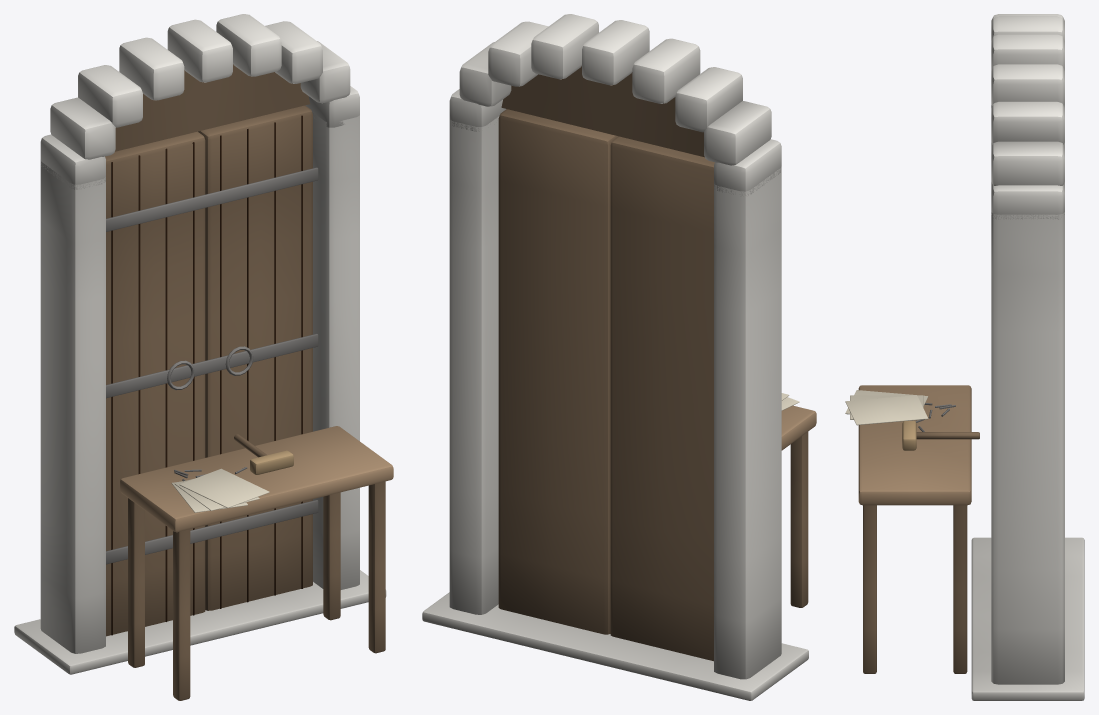
File: obj_kit_notice.glb
3 views of the same model, side by side, from view 1: azimuth 30°, elevation 25°; view 2: azimuth 150°, elevation 25°; view 3: azimuth 270°, elevation 25° (orthographic). The views are drawn at different scales.
Parts seen in each view (by area): view 1: Cube.001, Cube, Cube.013, Cube.014, Cube.025, Cube.024, tymp, Cube.020, Cube.026, Cube.028, Cube.019, Cube.012 (+21 smaller); view 2: Cube.001, Cube, Cube.013, Cube.014, Cube.024, tymp, Cube.020, Cube.019, Cube.026, Cube.022, Cube.021, Cube.018 (+5 smaller); view 3: Cube.014, Cube.025, Cube.024, Cube.016, Cube.017, Cube.018, Cube.029, Cube.028, Cube.015, Cube.019, Cube.033, Cube.020 (+2 smaller).
Boxes of the visible parts, <box> form: Cube.001: <box>198,105,312,610</box>; Cube: <box>105,131,205,636</box>; Cube.013: <box>40,160,105,653</box>; Cube.014: <box>312,112,359,589</box>; Cube.025: <box>120,426,393,532</box>; Cube.024: <box>14,570,386,674</box>; tymp: <box>115,64,310,151</box>; Cube.020: <box>119,37,184,100</box>; Cube.026: <box>173,529,190,700</box>; Cube.028: <box>368,481,385,653</box>; Cube.019: <box>167,19,232,82</box>; Cube.012: <box>106,167,318,231</box>; Cube.001: <box>498,109,617,634</box>; Cube: <box>610,136,714,661</box>; Cube.013: <box>714,166,781,679</box>; Cube.014: <box>449,116,499,614</box>; Cube.024: <box>422,592,808,700</box>; tymp: <box>501,66,704,157</box>; Cube.020: <box>632,38,700,103</box>; Cube.019: <box>582,20,649,85</box>; Cube.026: <box>790,432,808,607</box>; Cube.022: <box>704,101,771,165</box>; Cube.021: <box>675,67,742,132</box>; Cube.018: <box>531,14,598,79</box>; Cube.014: <box>991,212,1064,684</box>; Cube.025: <box>858,385,971,505</box>; Cube.024: <box>971,537,1084,700</box>; Cube.016: <box>991,141,1064,185</box>; Cube.017: <box>991,101,1064,144</box>; Cube.018: <box>991,64,1064,105</box>; Cube.029: <box>953,505,967,673</box>; Cube.028: <box>863,505,876,673</box>; Cube.015: <box>991,182,1064,219</box>; Cube.019: <box>991,34,1064,70</box>; Cube.033: <box>845,395,928,425</box>; Cube.020: <box>991,16,1064,40</box>.
Bounding box in the file's own units: 1.3 × 2.28 × 0.847.
